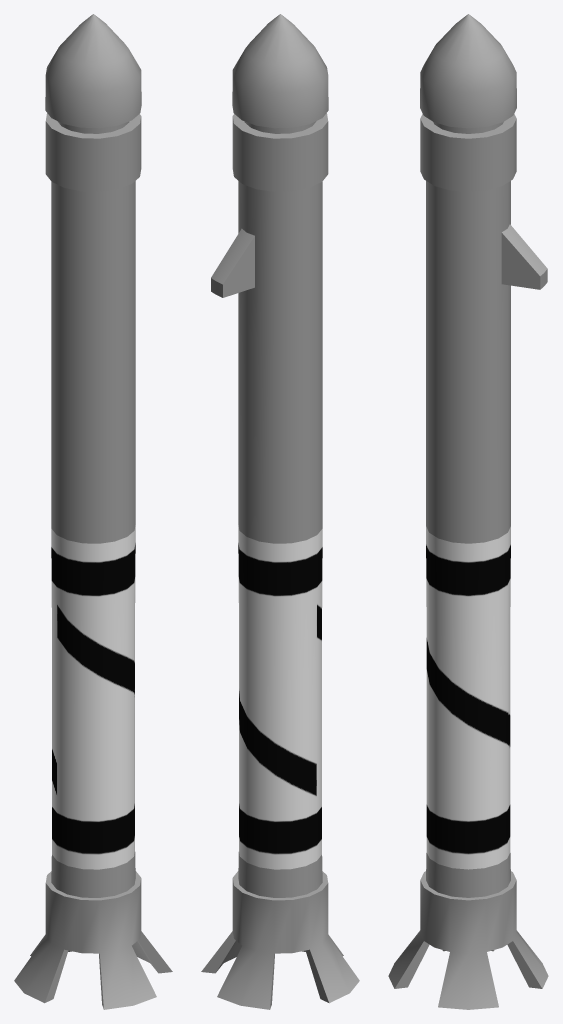
The model's file is Missile_5_NEW.fbx.
3 views of the same model, side by side, from view 1: azimuth 30°, elevation 25°; view 2: azimuth 150°, elevation 25°; view 3: azimuth 270°, elevation 25° (orthographic).
Visible parts, largest first — view 1: Cylinder_1, Cylinder; view 2: Cylinder_1, Cylinder; view 3: Cylinder_1, Cylinder.
Boxes of the visible parts, bbox=[...] form: Cylinder_1: bbox=[14, 14, 172, 1009]; Cylinder: bbox=[51, 525, 135, 869]; Cylinder_1: bbox=[201, 14, 359, 1009]; Cylinder: bbox=[238, 525, 322, 869]; Cylinder_1: bbox=[388, 14, 548, 1009]; Cylinder: bbox=[426, 526, 510, 869].
Bounding box in the file's own units: 0.2919 × 1.93 × 0.2919.
